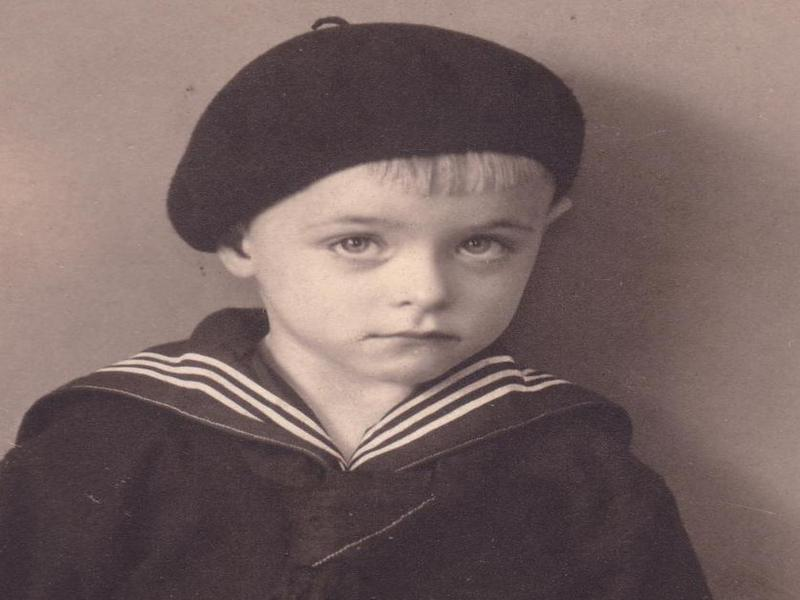person: (26, 13, 704, 600)
